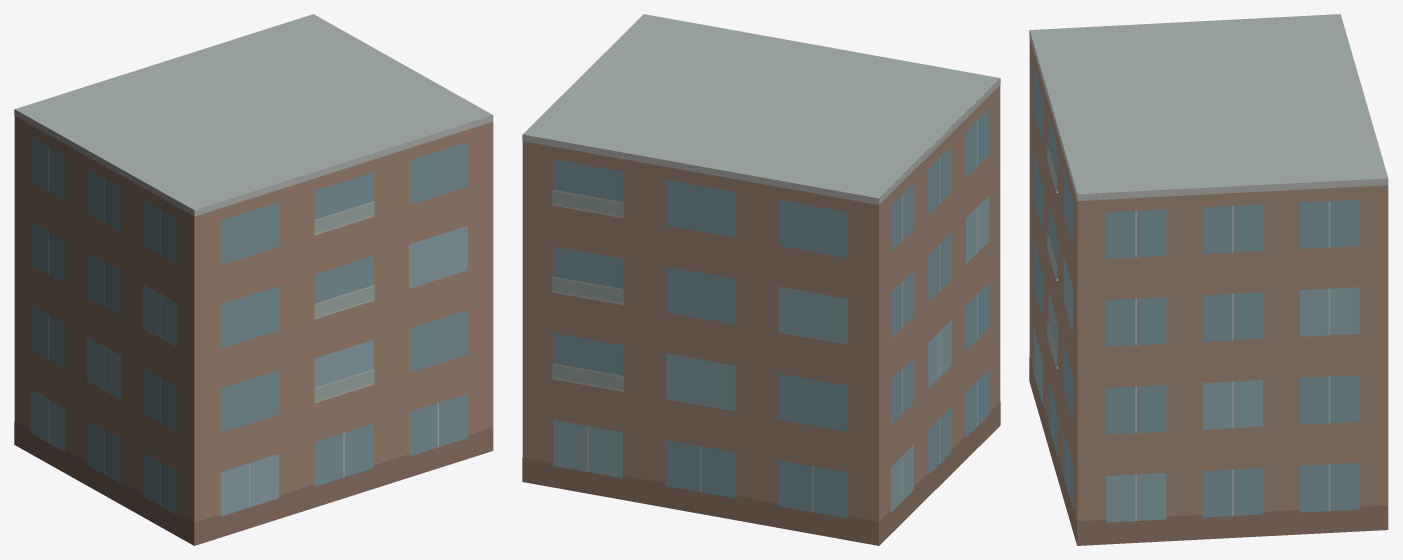
File: survey-upis-32717119.glb
3 renders of one model, left to right at view 1: azimuth 30°, elevation 25°; view 2: azimuth 150°, elevation 25°; view 3: azimuth 270°, elevation 25°, orthographic. The views are drawn at different scales.
Visible parts, largest first — view 1: survey-upis-32717119.tmp; view 2: survey-upis-32717119.tmp; view 3: survey-upis-32717119.tmp.
Part boxes in pixels (x1,y1,x2,y2): survey-upis-32717119.tmp: (14, 14, 493, 545); survey-upis-32717119.tmp: (522, 14, 1000, 545); survey-upis-32717119.tmp: (1029, 14, 1388, 545).
Size of the model in its own units: 14.1 by 12.8 by 11.85.
